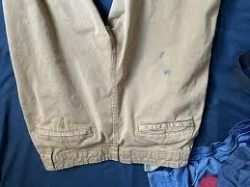ink: (158, 49, 165, 60), (163, 70, 172, 76)
